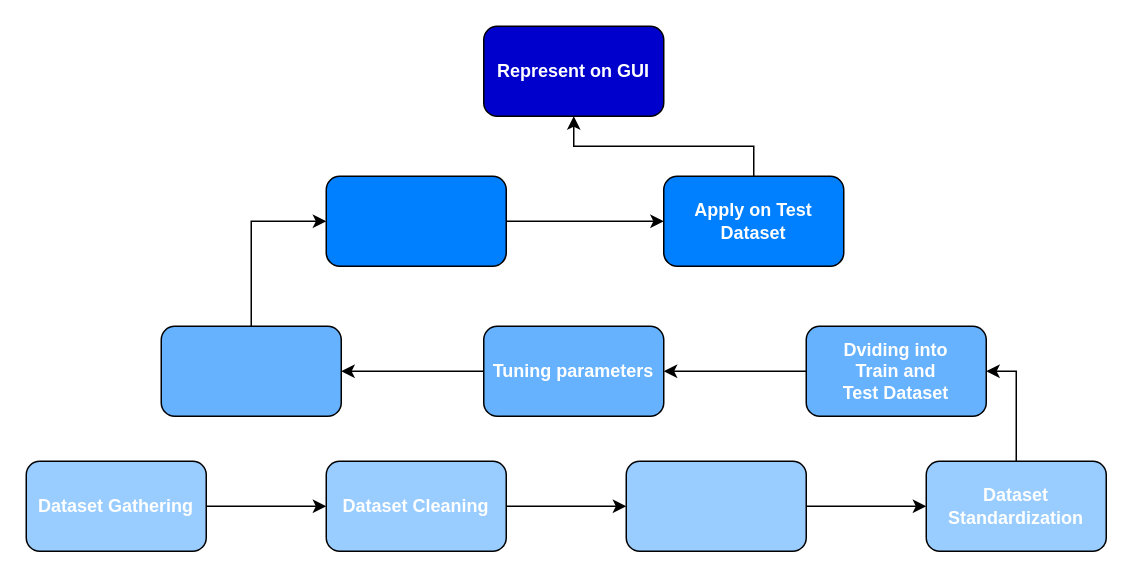
The diagram is 1133 pixels wide and 578 high, and some of its shapes have lost their labels. Each missing label, with the centre of its shape:
"Choose Best Model" belongs at [415,220].
"Dataset labeling" belongs at [715,505].
"Training Model" belongs at [250,370].
